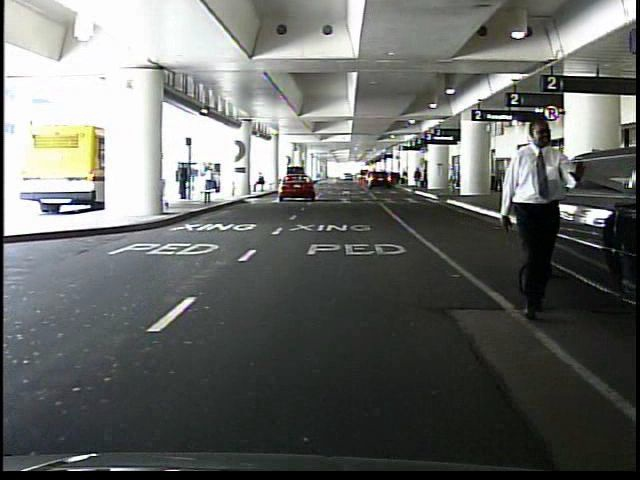person: (492, 109, 580, 325), (176, 161, 191, 201), (446, 167, 459, 194), (255, 172, 268, 194), (414, 167, 423, 190)
